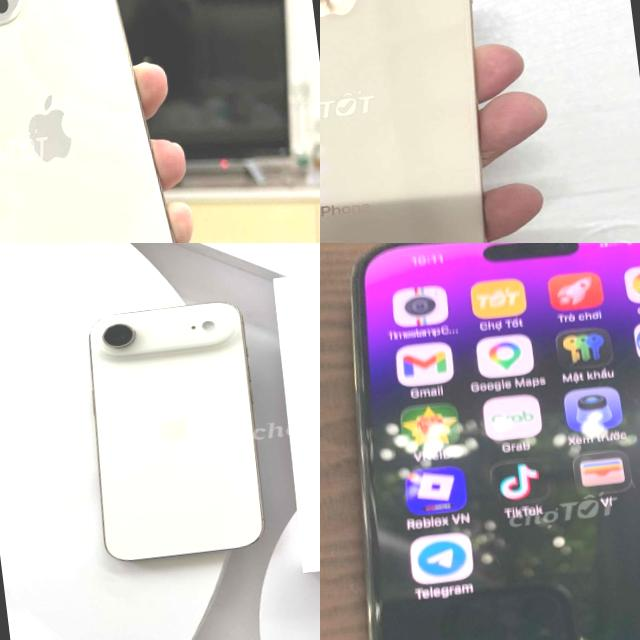gen_12_13: (0, 0, 210, 243)
gen_14: (320, 243, 640, 640)
gen_17: (83, 290, 278, 567)
gen_7_8: (320, 0, 527, 243)
